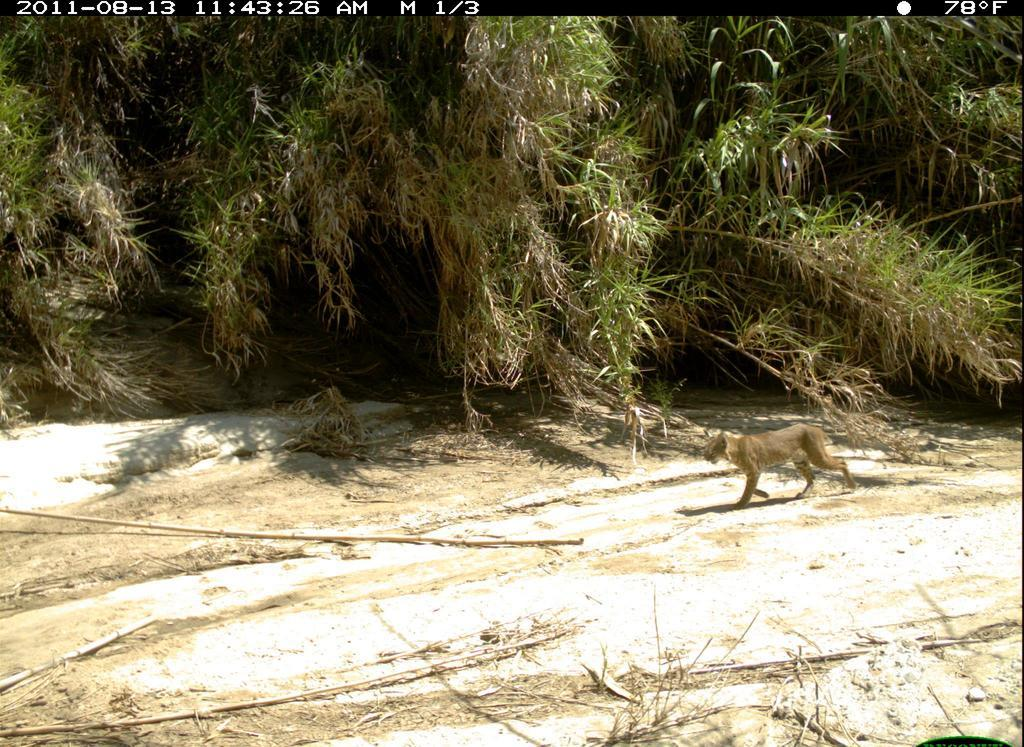bobcat: (697, 427, 859, 515)
